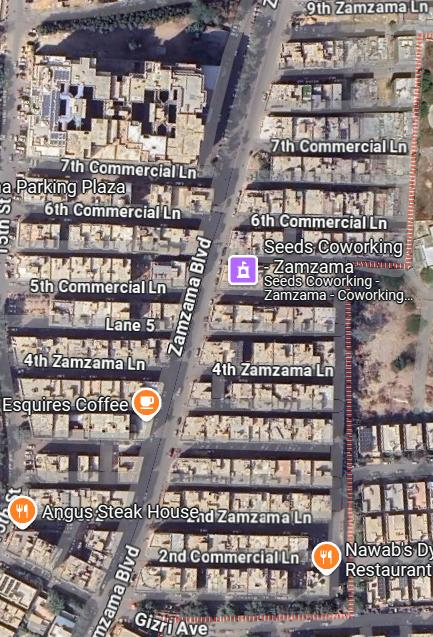Buildings: (138, 306, 339, 591), (36, 2, 237, 170), (9, 177, 213, 294), (230, 187, 394, 251), (140, 534, 309, 587), (25, 380, 161, 441), (179, 416, 337, 454), (200, 331, 332, 376), (257, 110, 414, 147), (261, 78, 420, 113), (4, 489, 137, 528), (19, 300, 184, 330), (187, 382, 334, 415), (15, 339, 174, 368), (169, 459, 333, 487), (216, 302, 339, 338), (156, 496, 331, 520), (284, 33, 385, 74), (28, 454, 99, 478)
